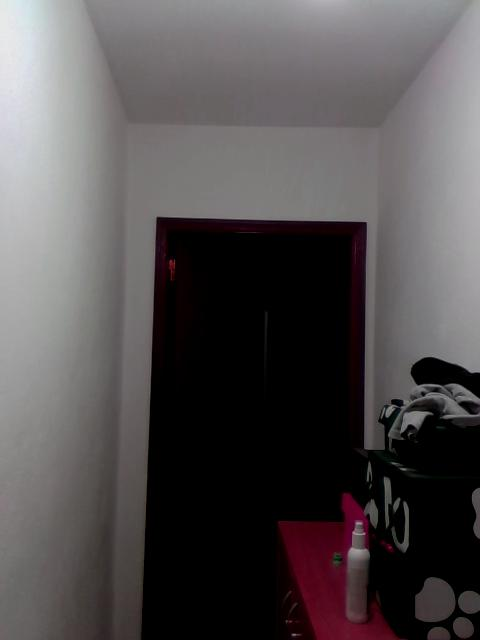open_door: (140, 214, 367, 638)
